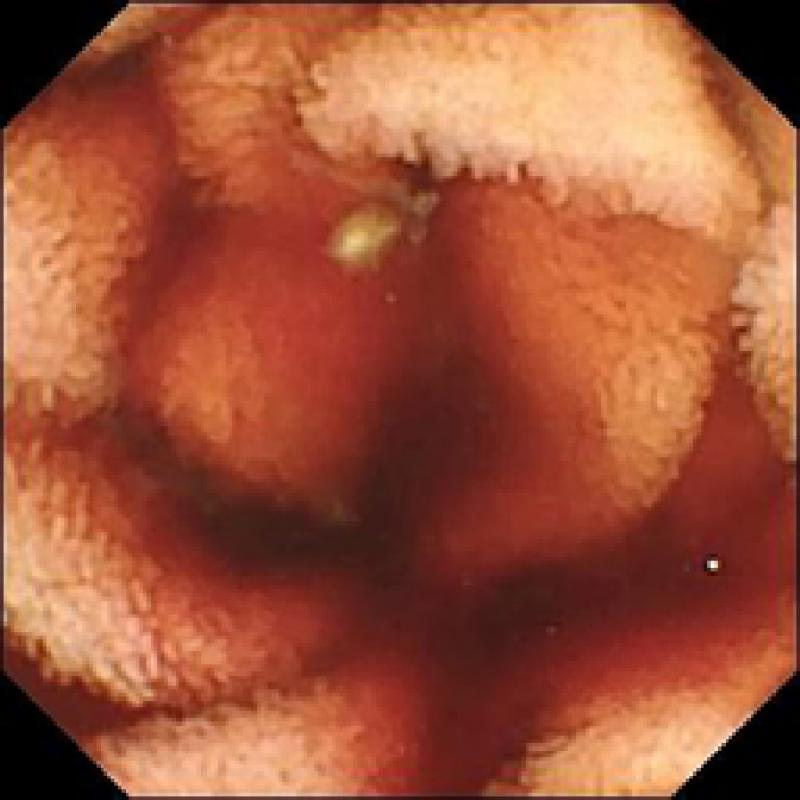bleeding: (21, 14, 800, 790)
